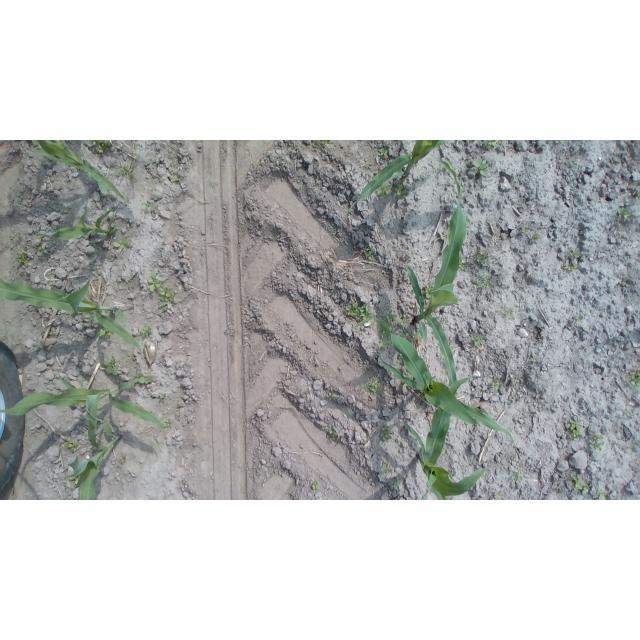Maize: (352, 318, 516, 449), (405, 159, 467, 385), (404, 376, 496, 501), (1, 278, 142, 354), (0, 374, 164, 429), (346, 141, 446, 226), (67, 390, 123, 500), (31, 141, 126, 200), (40, 208, 117, 240)
Weeds: (104, 158, 138, 184), (345, 302, 372, 319), (14, 246, 30, 268), (471, 274, 493, 290), (88, 140, 113, 154), (572, 475, 590, 494), (158, 285, 176, 303), (588, 433, 606, 451), (568, 419, 584, 439), (325, 428, 344, 444), (472, 159, 488, 178), (104, 355, 119, 375), (63, 438, 81, 454), (148, 270, 161, 292), (499, 305, 516, 321), (364, 380, 382, 395), (111, 238, 131, 251), (629, 366, 640, 389), (134, 372, 154, 384), (476, 251, 489, 268), (380, 422, 392, 440), (390, 476, 402, 492), (472, 334, 486, 347), (363, 247, 375, 262), (421, 281, 431, 298), (510, 470, 523, 483), (140, 324, 152, 338), (618, 207, 631, 219), (387, 310, 398, 323), (377, 185, 390, 196), (597, 487, 608, 500), (141, 200, 155, 210), (97, 328, 111, 338), (382, 464, 393, 476), (379, 339, 390, 351), (394, 184, 406, 195), (491, 374, 499, 390), (484, 140, 500, 148), (460, 258, 469, 272), (572, 315, 584, 325), (399, 317, 410, 327), (565, 262, 577, 271), (13, 234, 24, 243), (572, 247, 581, 258), (172, 172, 181, 182), (164, 418, 173, 428), (521, 223, 529, 234), (413, 332, 422, 341), (316, 140, 332, 145), (157, 306, 168, 313), (380, 148, 388, 157), (328, 391, 335, 401), (494, 491, 504, 498), (442, 317, 450, 325), (533, 231, 541, 239), (514, 375, 522, 383), (120, 456, 127, 465), (312, 482, 319, 491), (407, 250, 414, 259), (531, 355, 540, 362), (613, 441, 620, 448), (36, 243, 42, 251), (636, 188, 640, 200), (37, 233, 44, 239), (623, 410, 631, 415), (623, 277, 629, 283), (555, 141, 567, 144), (628, 445, 634, 451), (159, 394, 165, 399), (224, 329, 229, 335), (44, 250, 49, 255), (314, 182, 318, 187)
